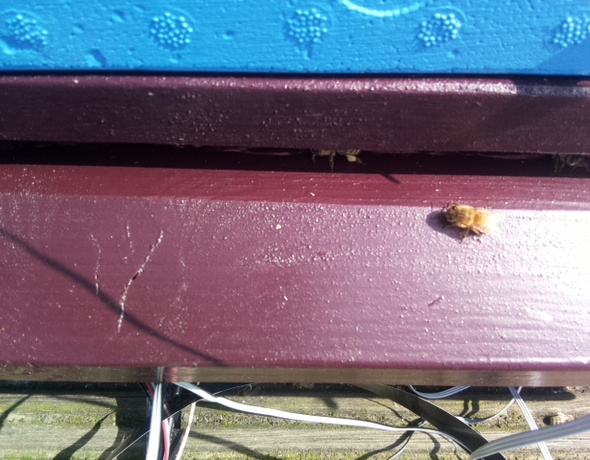no_pollen: (437, 198, 496, 243)
pollen: (308, 141, 367, 171)
